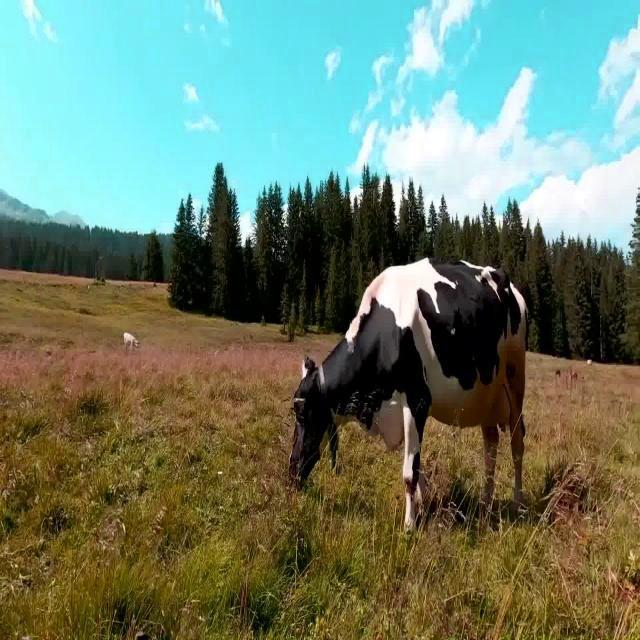COW: (290, 258, 528, 530)
